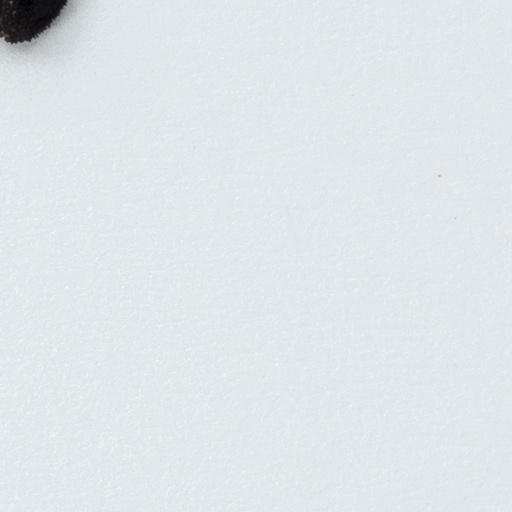Agrostemma: (0, 0, 71, 47)
